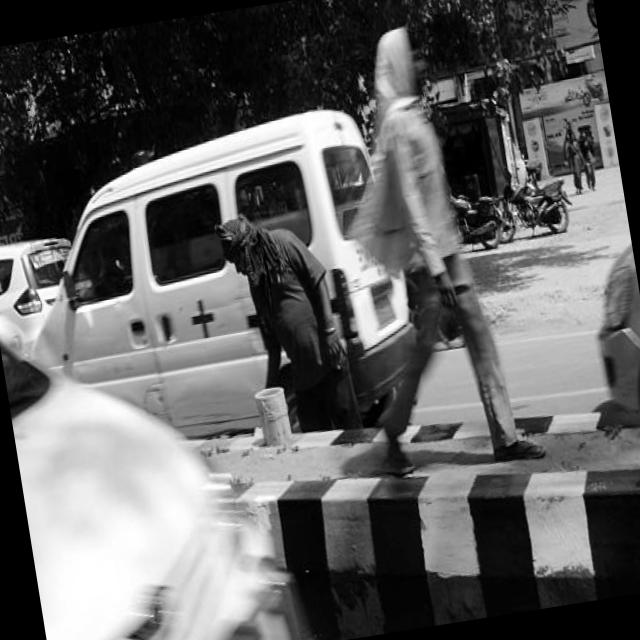ambulance: (180, 286, 222, 344), (126, 145, 154, 180)
